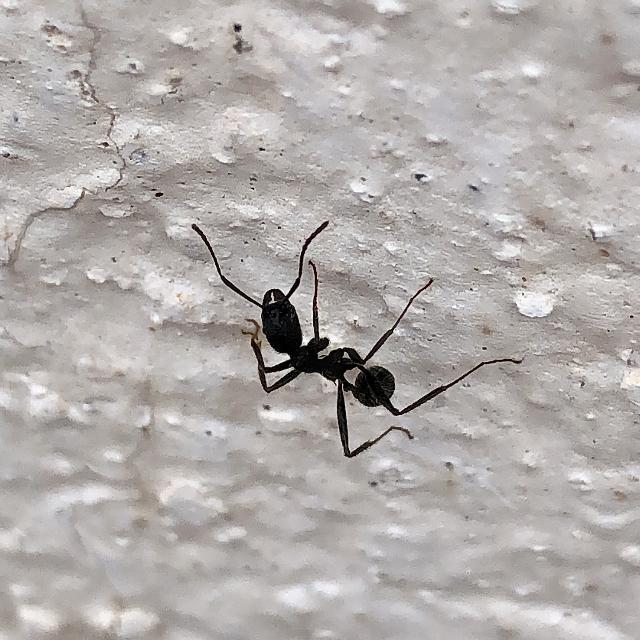Apheanogaster: (218, 249, 438, 453)
